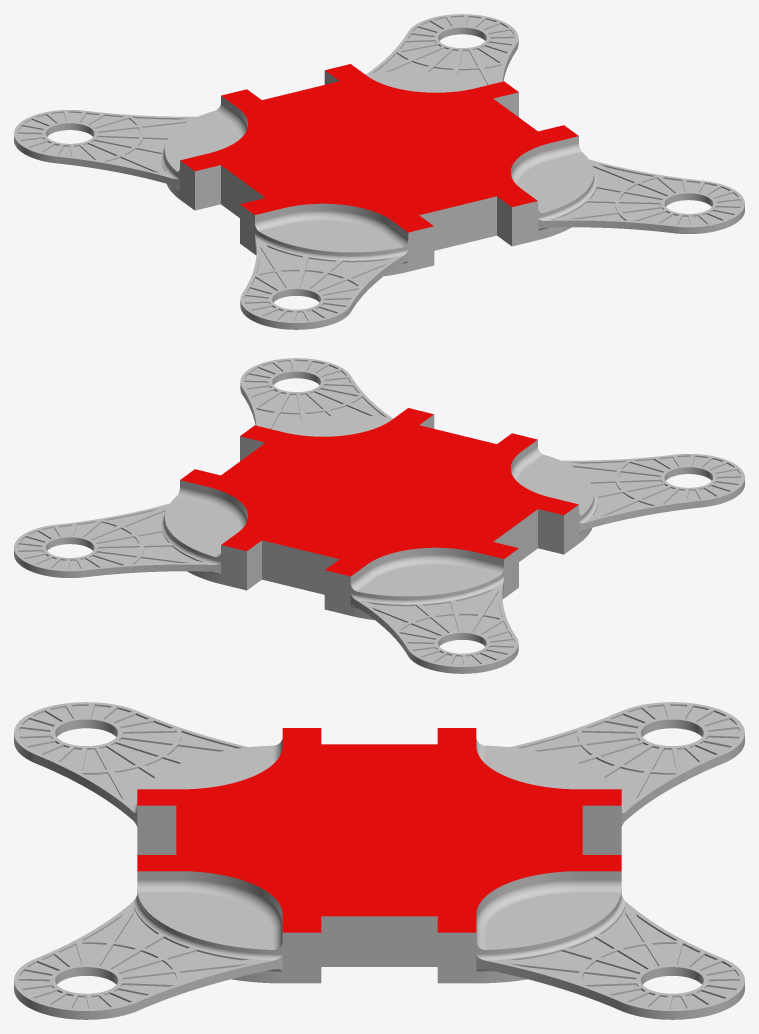
File: Modelo_Quad__2__STEP_622.obj
3 views of the same model, one above another, from view 1: azimuth 30°, elevation 25°; view 2: azimuth 150°, elevation 25°; view 3: azimuth 270°, elevation 25° (orthographic). The views are drawn at different scales.
Parts seen in each view (by area): view 1: Object1; view 2: Object1; view 3: Object1.
Part boxes in pixels (box(x1,y1,x2,y2)): Object1: box(14, 14, 744, 329); Object1: box(14, 358, 744, 673); Object1: box(14, 702, 744, 1019).
Size of the model in its own units: 1955 by 150 by 1955.
